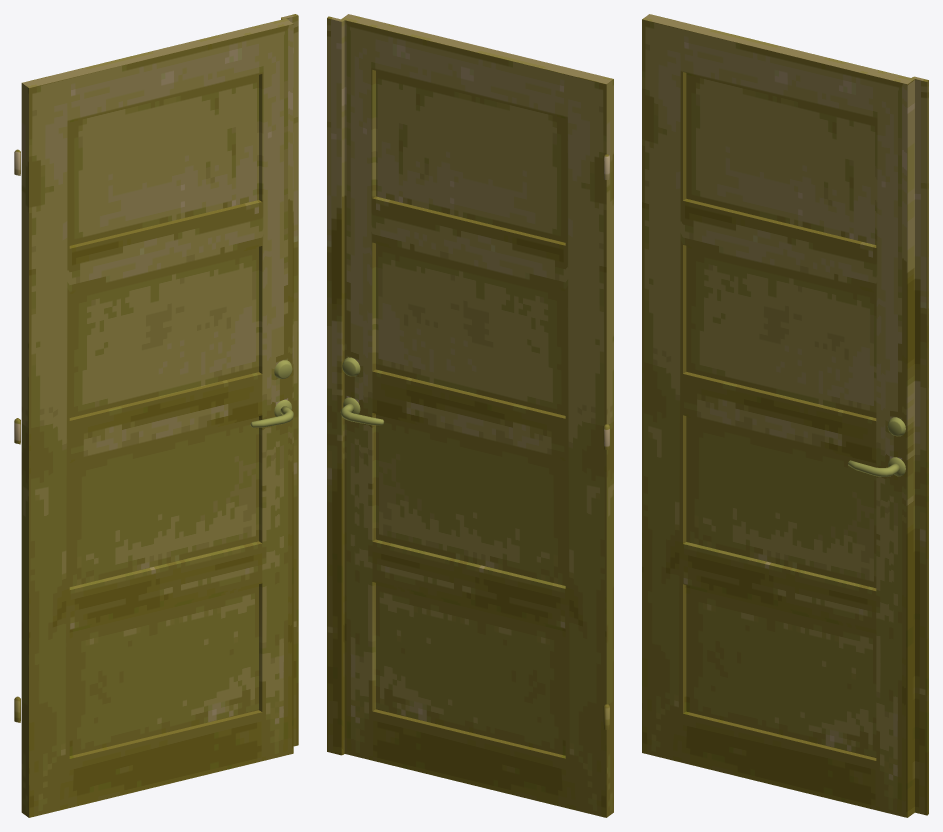
Rendered from puerta_verde.glb.
3 views of the same model, side by side, from view 1: azimuth 30°, elevation 25°; view 2: azimuth 150°, elevation 25°; view 3: azimuth 330°, elevation 25° (orthographic).
Parts seen in each view (by area): view 1: PuertaVerde; view 2: PuertaVerde; view 3: PuertaVerde.
Part boxes in pixels (x1,y1,x2,y2): PuertaVerde: (14, 14, 298, 817); PuertaVerde: (327, 14, 613, 817); PuertaVerde: (642, 14, 928, 817).
Size of the model in its own units: 1.25 by 3.09 by 0.248.
2 materials, 1 textured.
